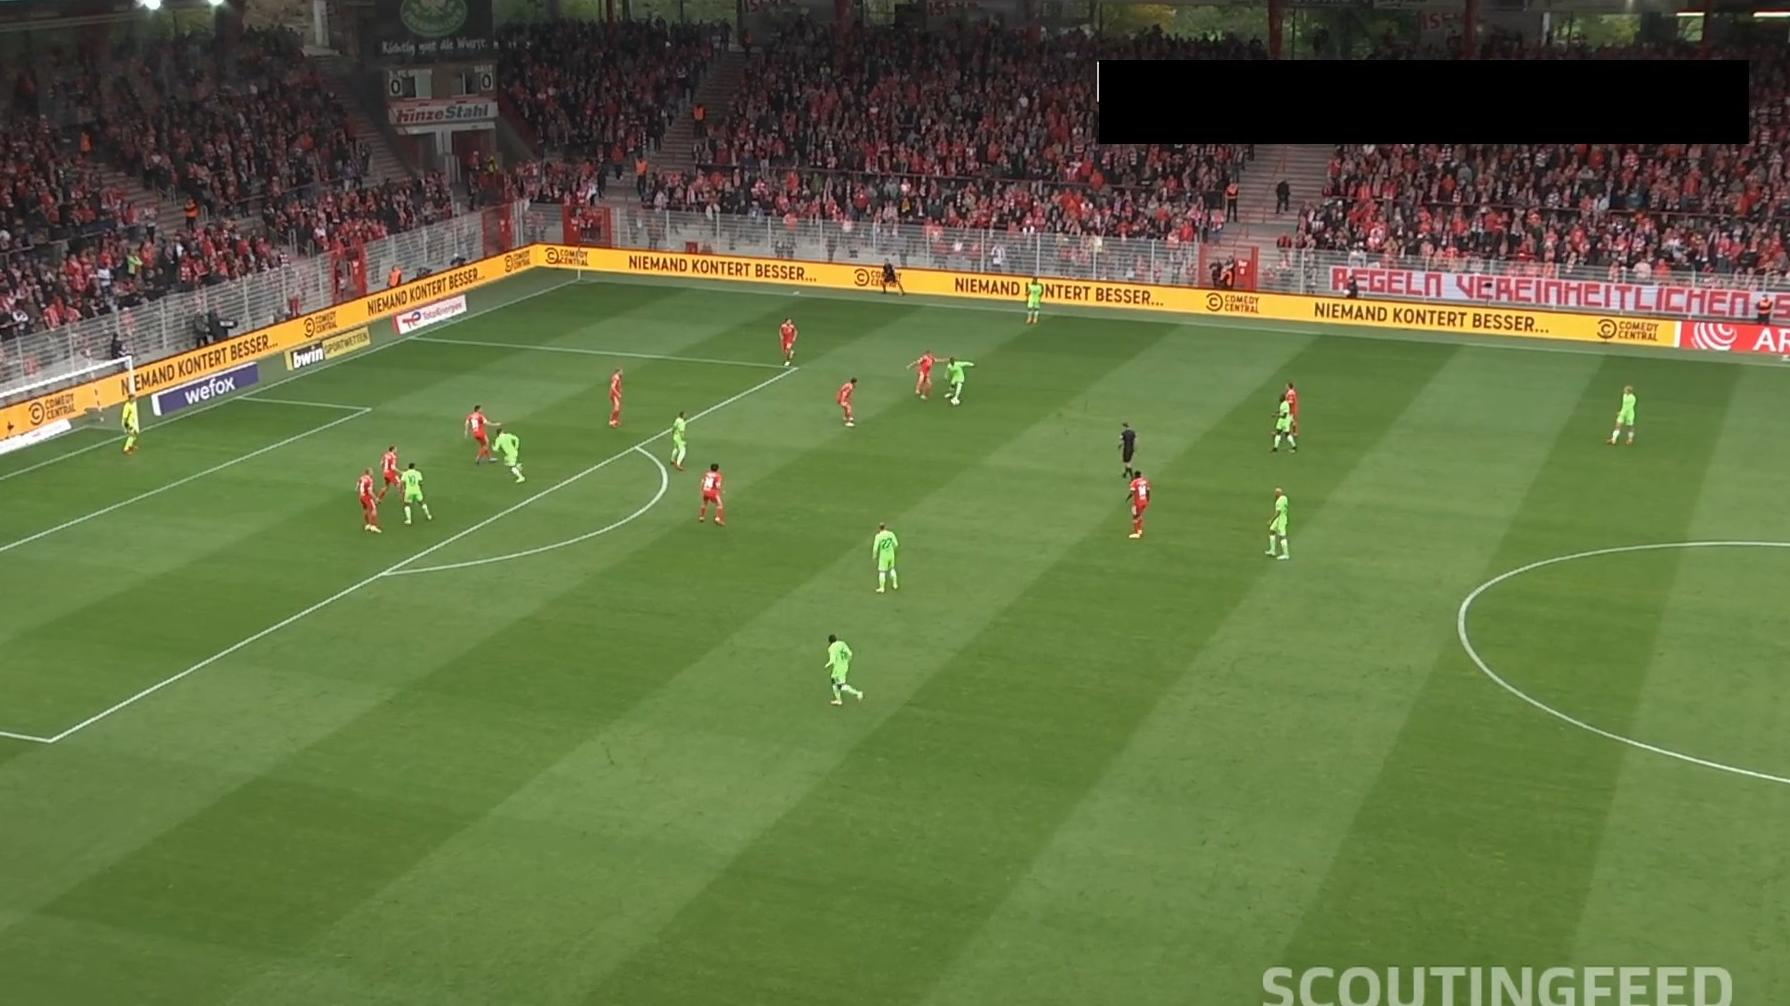ball: (949, 395, 963, 408)
